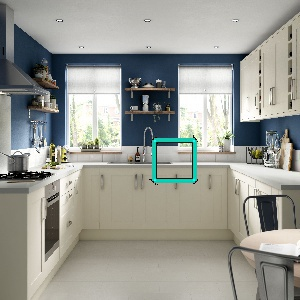square: (150, 136, 199, 185)
